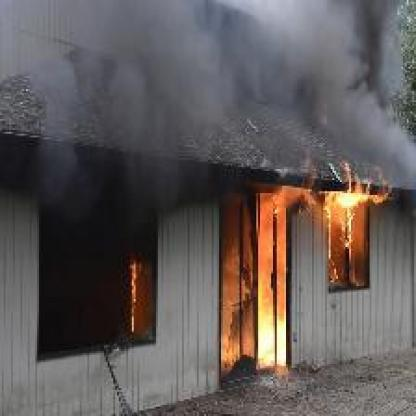fire: (246, 178, 311, 370), (318, 163, 389, 285), (123, 257, 144, 332)
smoke: (90, 4, 399, 143)
